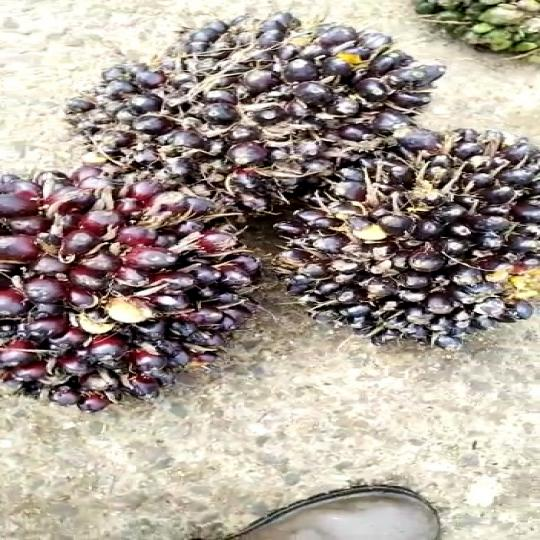mentah: (97, 9, 444, 239), (0, 148, 265, 417), (254, 108, 540, 350)
